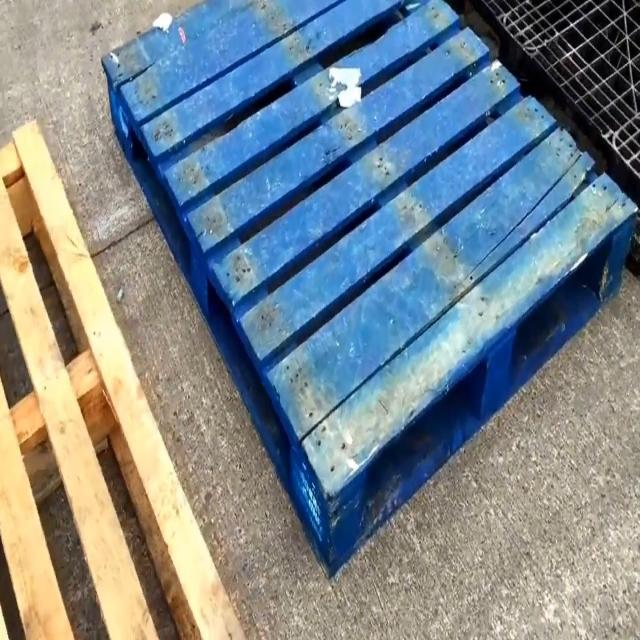Palette: (100, 0, 640, 601), (0, 112, 248, 639), (453, 0, 639, 284)
